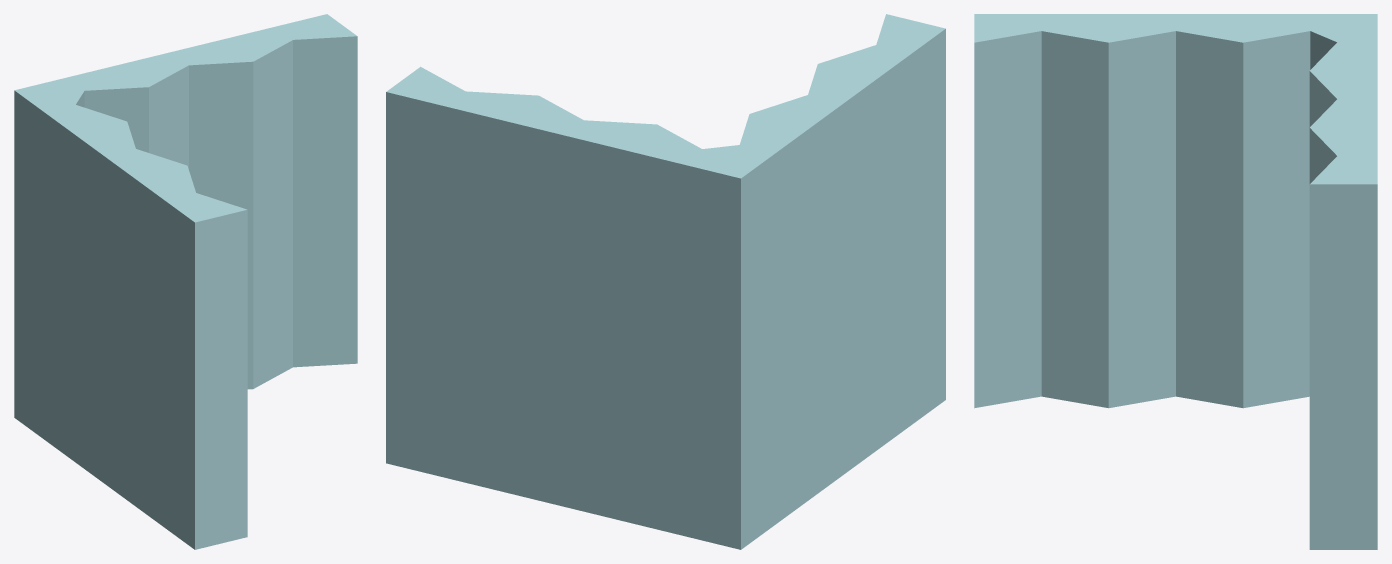
File: cliff_cornerInner_stone.dae
3 renders of one model, left to right at view 1: azimuth 30°, elevation 25°; view 2: azimuth 150°, elevation 25°; view 3: azimuth 270°, elevation 25°, orthographic. The views are drawn at different scales.
Visible parts, largest first — view 1: cliff_cornerInner_stone; view 2: cliff_cornerInner_stone; view 3: cliff_cornerInner_stone.
Boxes of the visible parts, box(x1,y1,x2,y2) form: cliff_cornerInner_stone: box(14, 14, 357, 549); cliff_cornerInner_stone: box(386, 14, 945, 549); cliff_cornerInner_stone: box(974, 14, 1377, 549).
Size of the model in its own units: 1 by 1 by 1.
